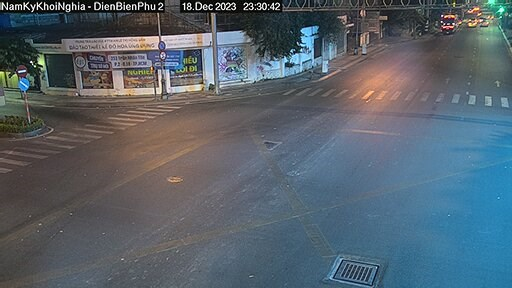car: (438, 12, 455, 33)
